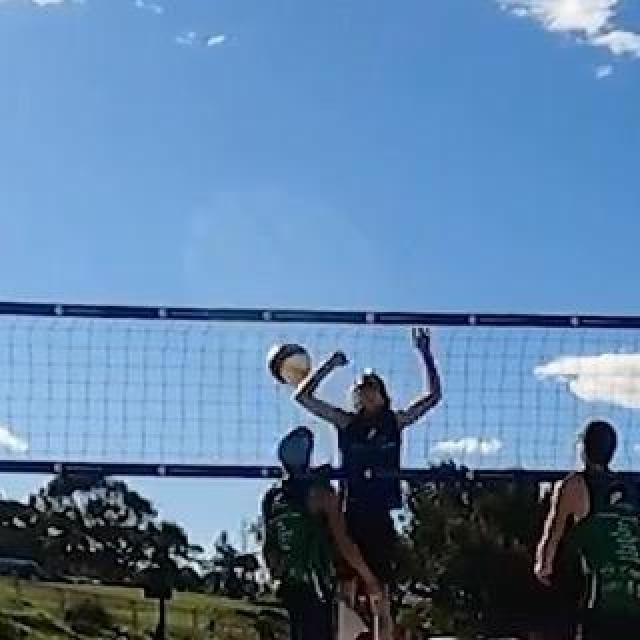volleyball: (267, 345, 311, 385)
